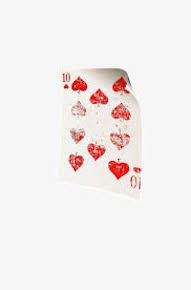TenOfHearts: (56, 65, 147, 199)
